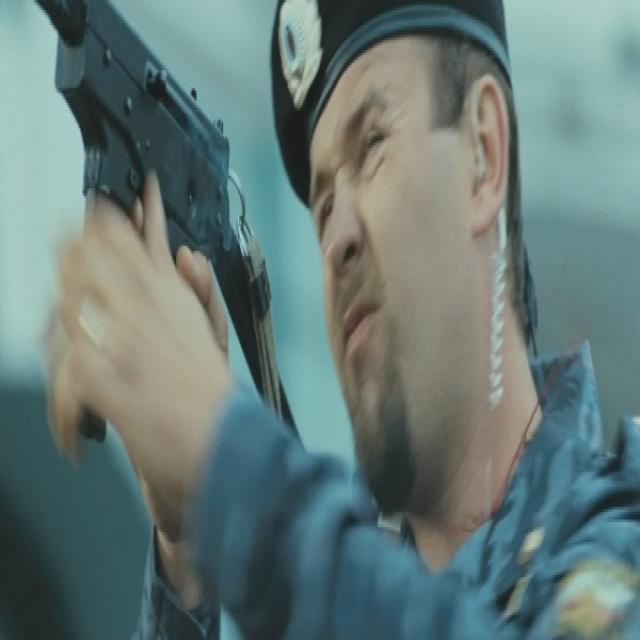rifle: (32, 1, 239, 462)
